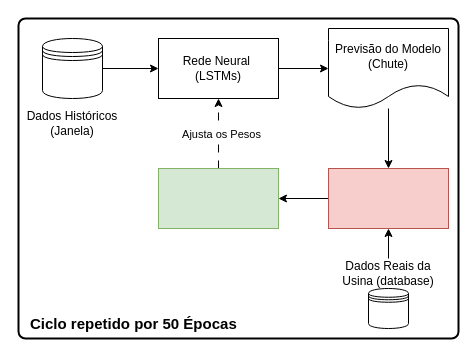
Some shapes in this 476 by 356 pixel diagram are drawn without their labels. The centre of each missing label's shape, as x and y in pixels:
"Cálculo do Erro (MSE)" goes at point (388, 198).
"Otimizador (Adam)" goes at point (218, 198).
